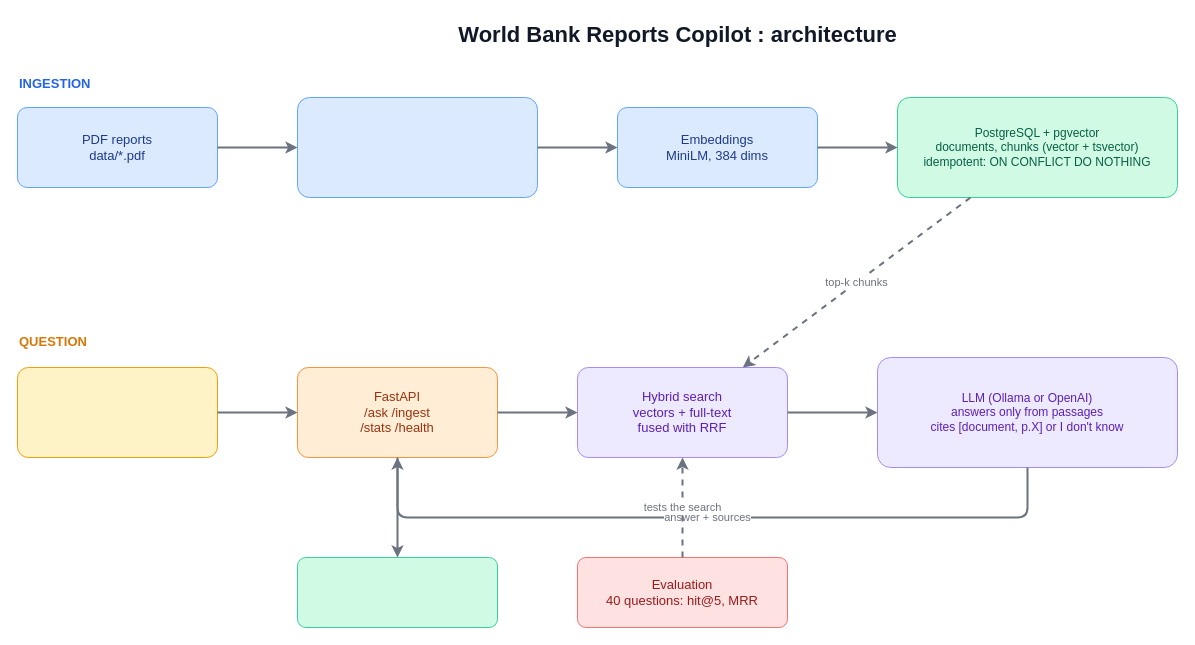
This 1195x645 diagram has some shape labels left out. The centre of each missing label's shape, as x and y in pixels:
Ingestion clean, chunk, SHA-256 hash 800 chars, overlap 100, page kept: point (417, 147)
query_log latency, answered: point (397, 592)
User Swagger /docs POST /ask: point (117, 412)
